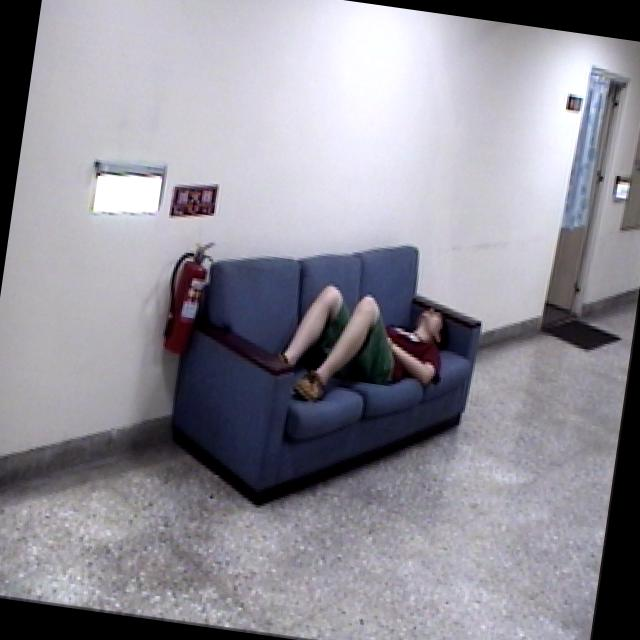lie: (255, 272, 462, 422)
